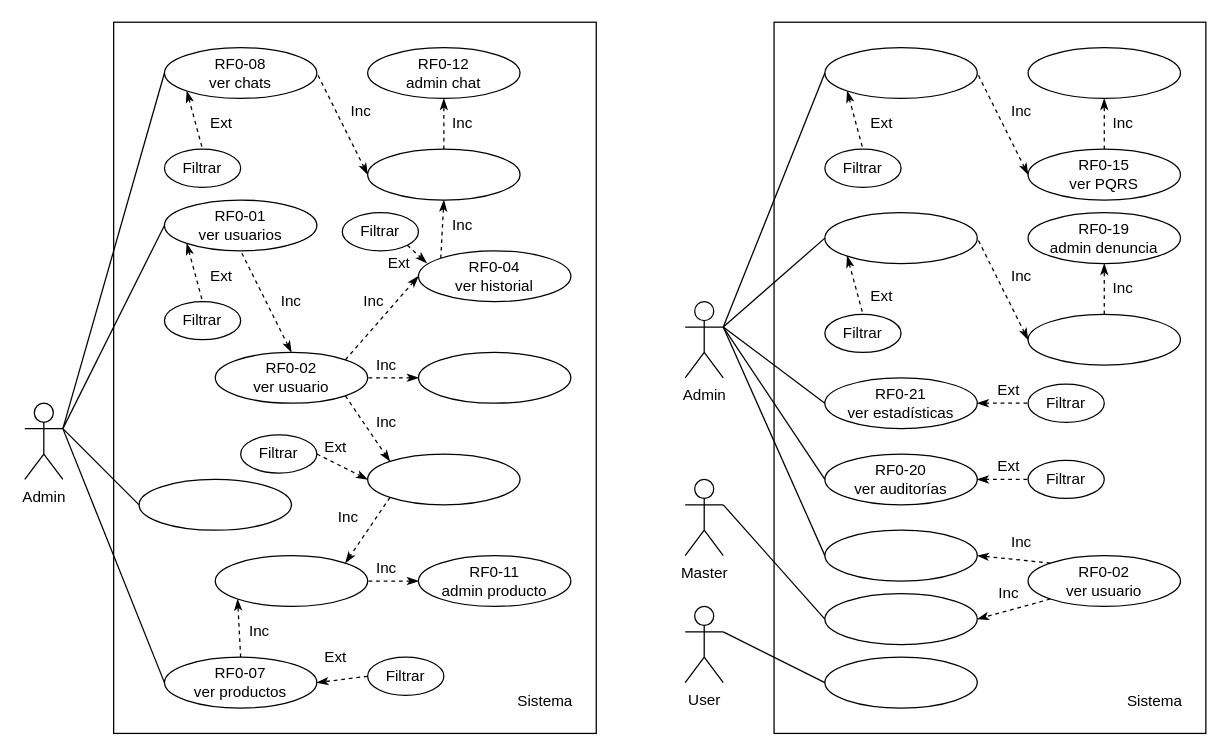
Some shapes in this 1228 by 756 pixel diagram are drawn without their labels. Here are the shapes that lost their labels. From the top down, the centre of each, then its label:
At (900,72): "RF0-14 ver PQRSs".
At (1103,72): "RF0-16 admin PQRS".
At (443,174): "RF0-05 ver chat".
At (900,237): "RF0-17 ver denuncias".
At (1103,339): "RF0-18 ver denuncia".
At (494,377): "RF0-10 admin usuario".
At (443,479): "RF0-03 ver catálogo".
At (214,504): "RF0-09 recuperar clave".
At (900,555): "RF0-13 responder".
At (291,580): "RF0-06 ver producto".
At (900,618): "RF0-22 roles usuario".
At (900,682): "RF0-23 ver notificaciónes".
